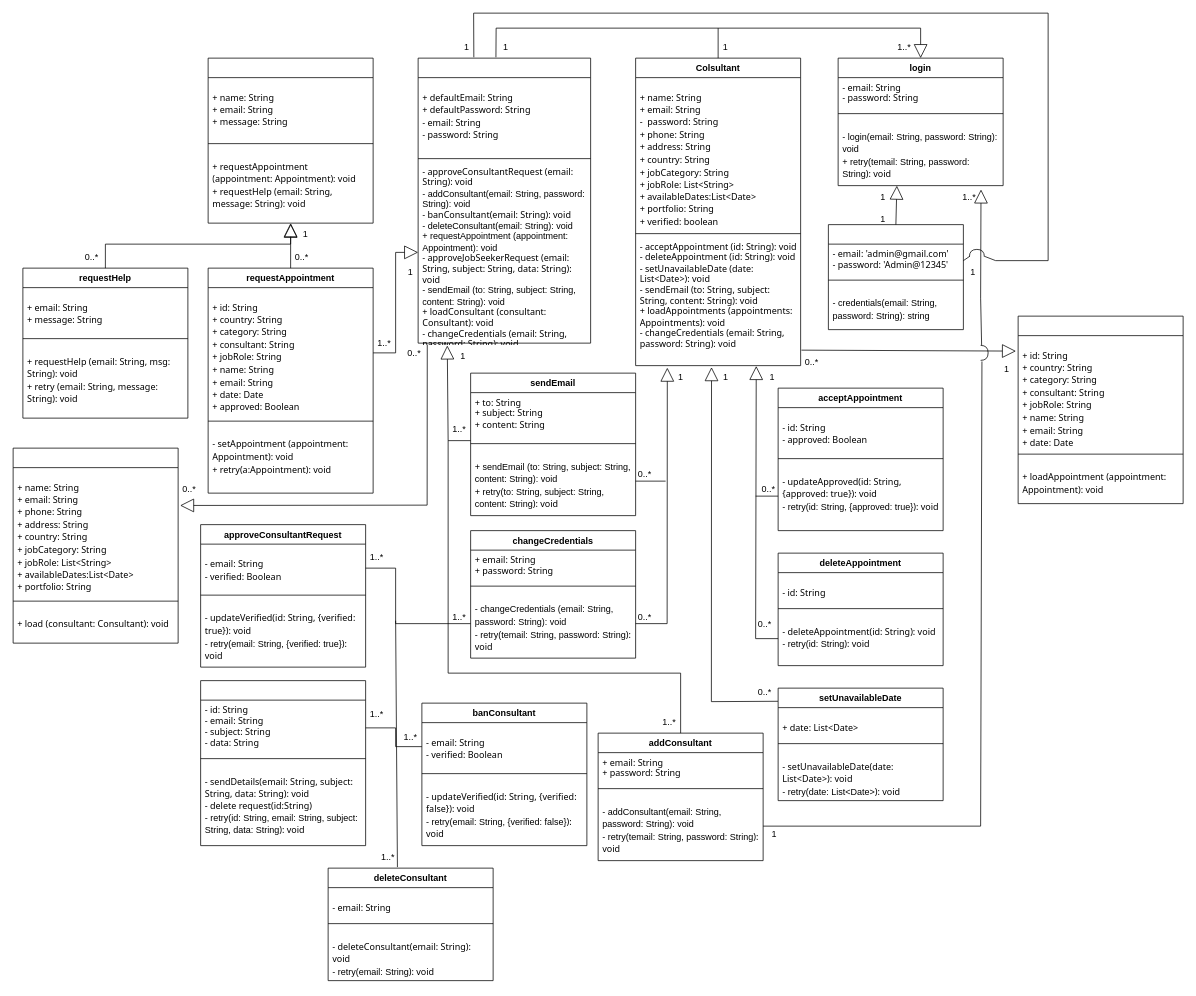
Some shapes in this 1196 by 996 pixel diagram are drawn without their labels. Each missing label, with the box of its shape:
approveJobseekerRequest: (200, 680, 366, 846)
defaultCredentials(return): (828, 224, 963, 330)
Jobseeker: (207, 57, 373, 223)
loadAppointments: (1017, 315, 1183, 504)
loadColsultant: (12, 447, 178, 643)
Reception: (417, 57, 591, 343)
